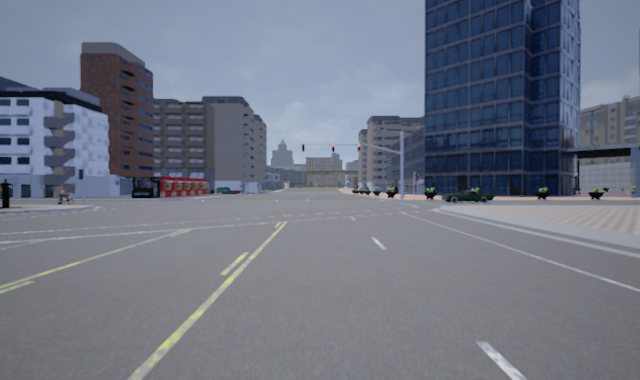bike: (50, 186, 76, 206)
pedestrian: (628, 183, 638, 199)
vehicle: (442, 191, 494, 203)
